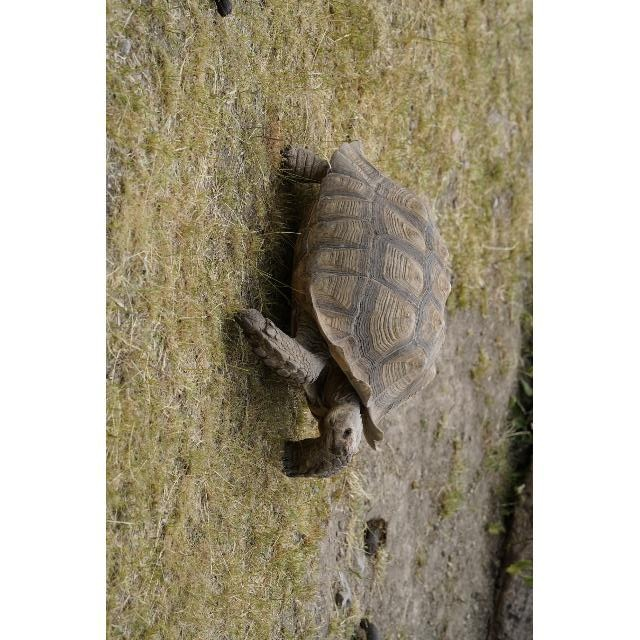turtle: (233, 141, 451, 479)
